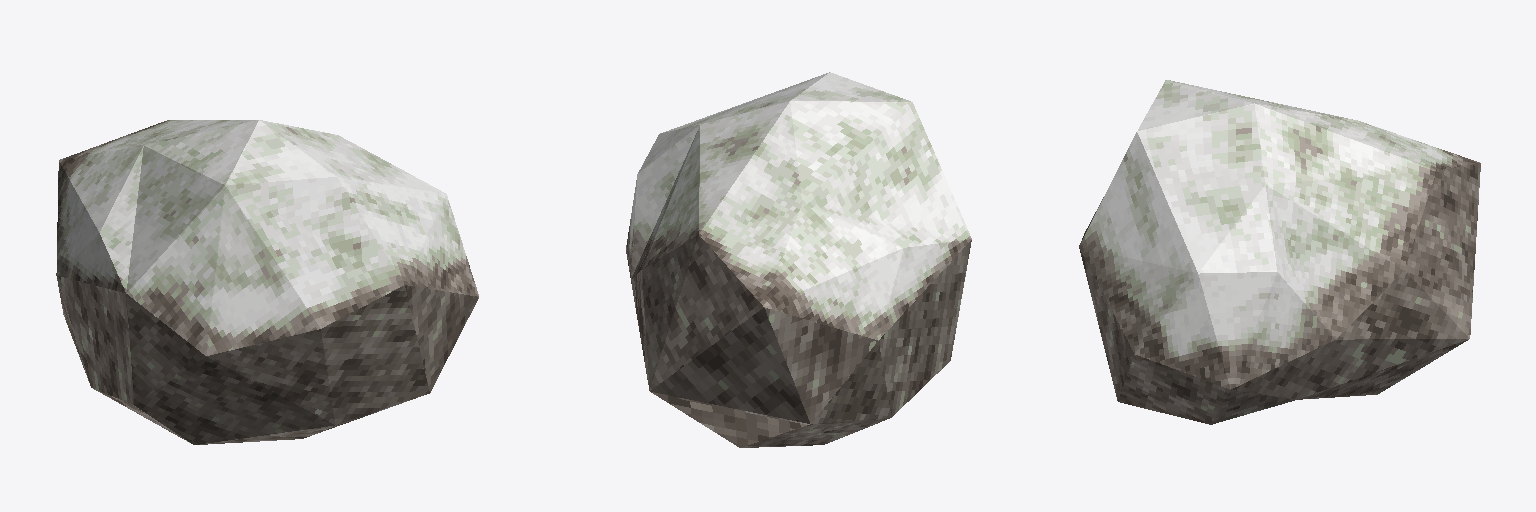
3 views of the same model, side by side, from view 1: azimuth 30°, elevation 25°; view 2: azimuth 150°, elevation 25°; view 3: azimuth 270°, elevation 25° (orthographic).
Parts seen in each view (by area): view 1: lbouldersno_1; view 2: lbouldersno_1; view 3: lbouldersno_1.
Part boxes in pixels (bbox=[...]): lbouldersno_1: bbox=[56, 120, 478, 444]; lbouldersno_1: bbox=[626, 72, 971, 447]; lbouldersno_1: bbox=[1079, 80, 1480, 424].
Bounding box in the file's own units: 2.08 × 1.76 × 2.17.
Materials: 1 (1 with a texture image).